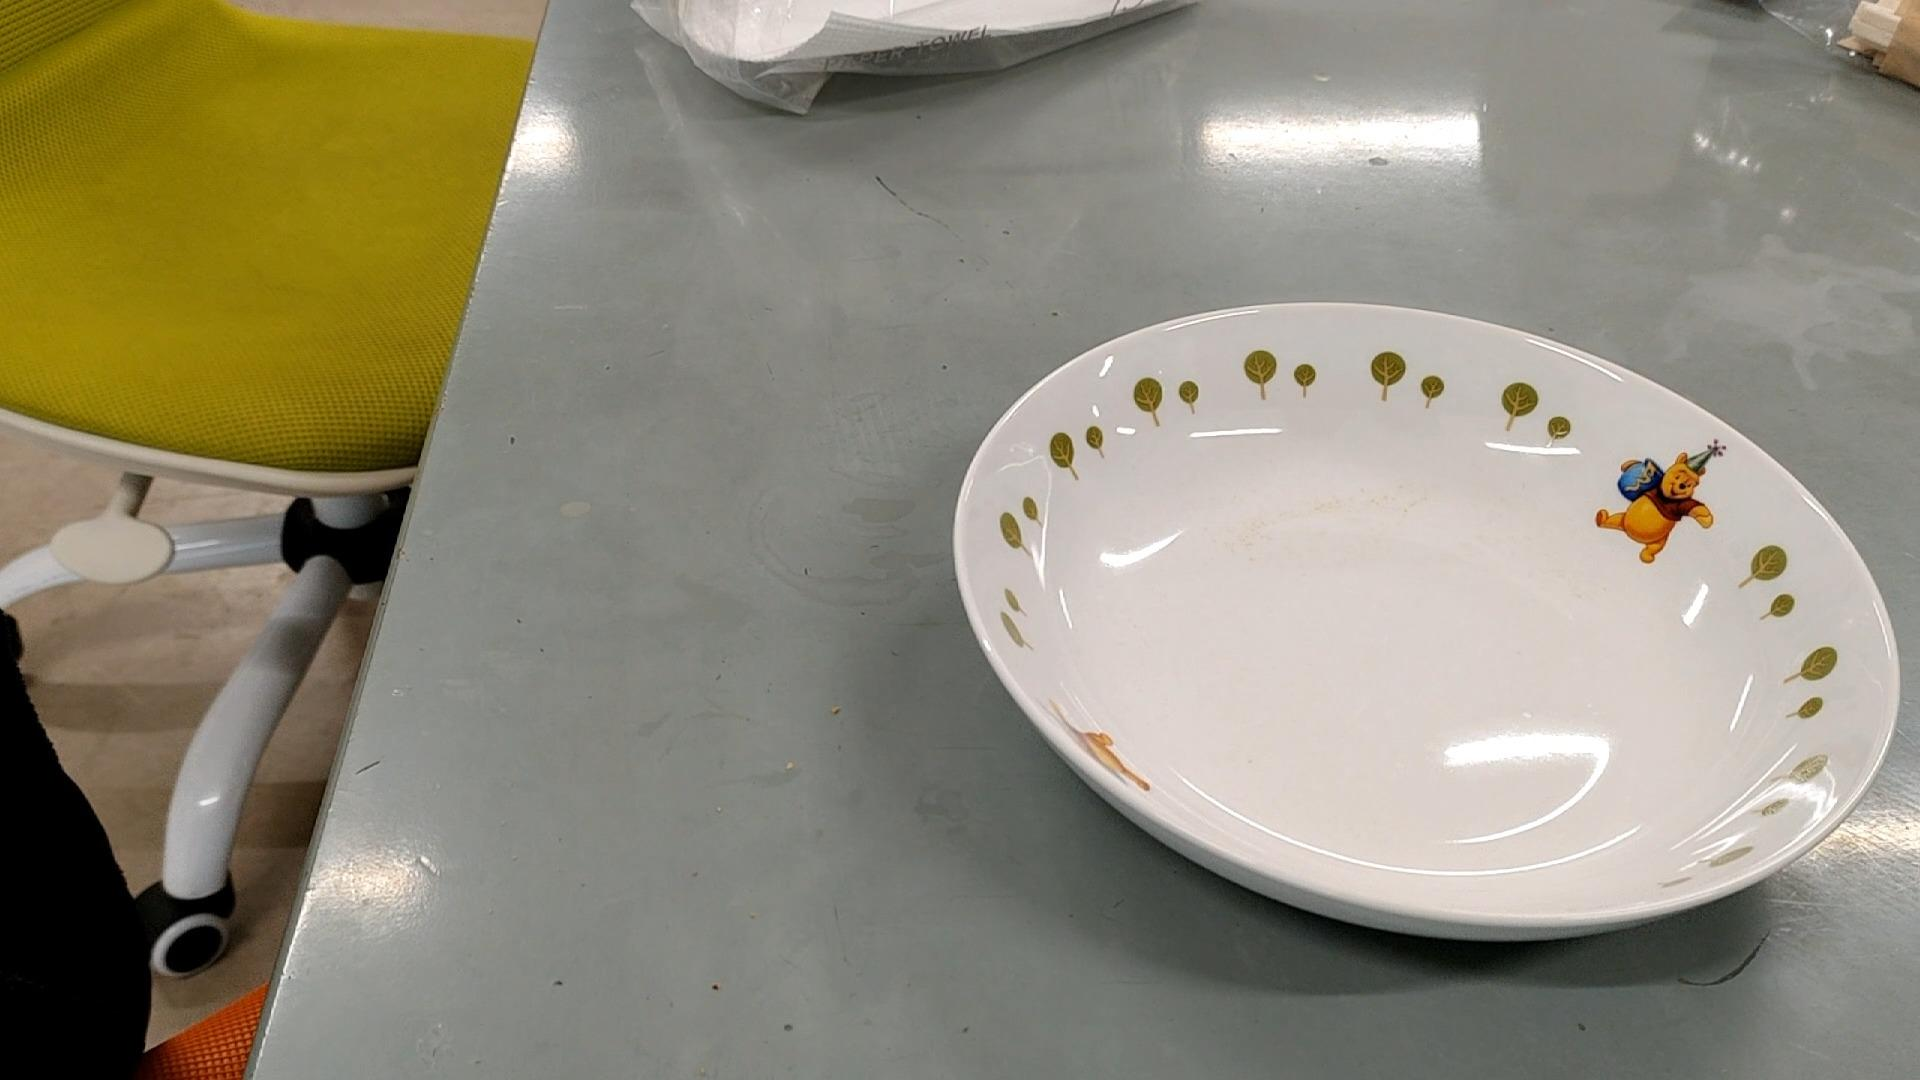plate: (956, 301, 1902, 944)
